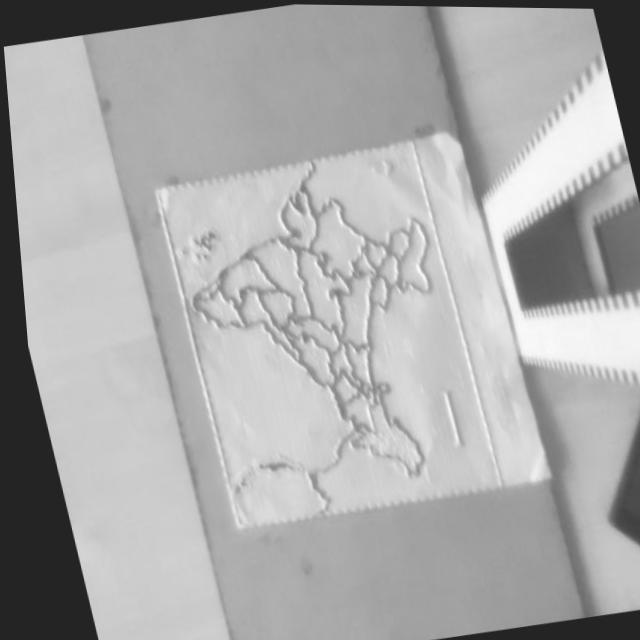map: (153, 124, 503, 553)
